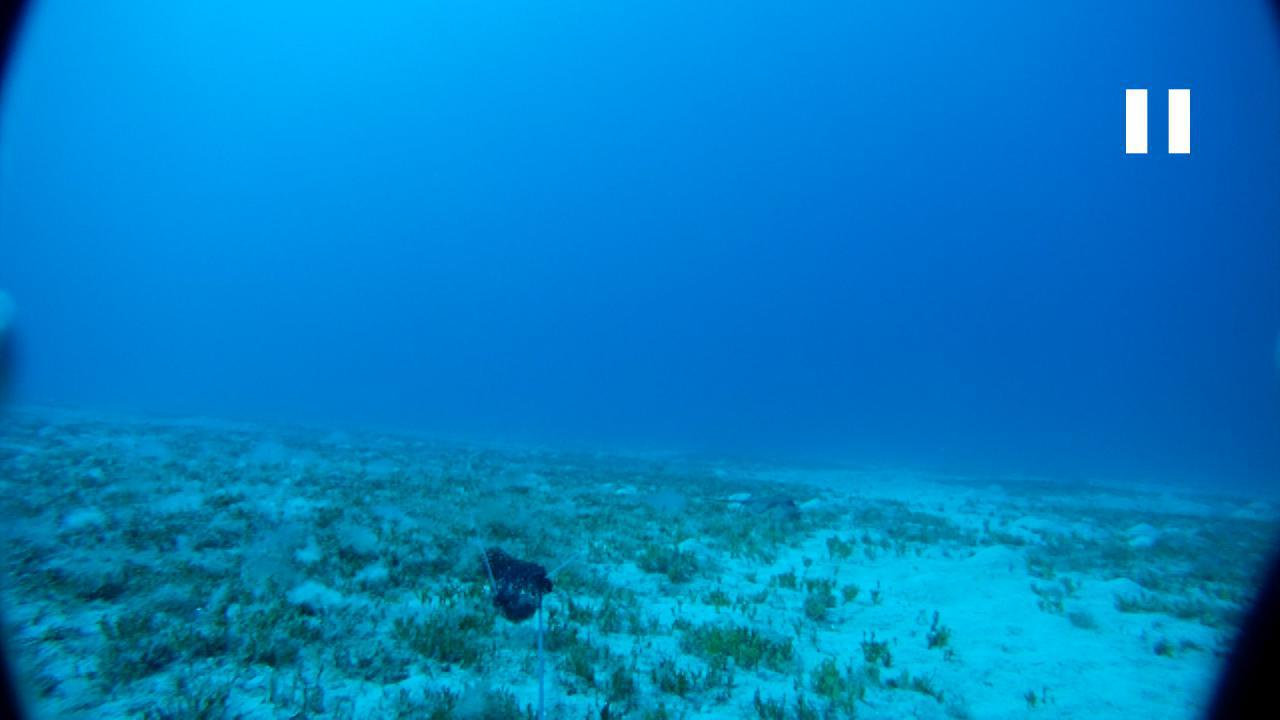dasyatis: (705, 494, 799, 513)
